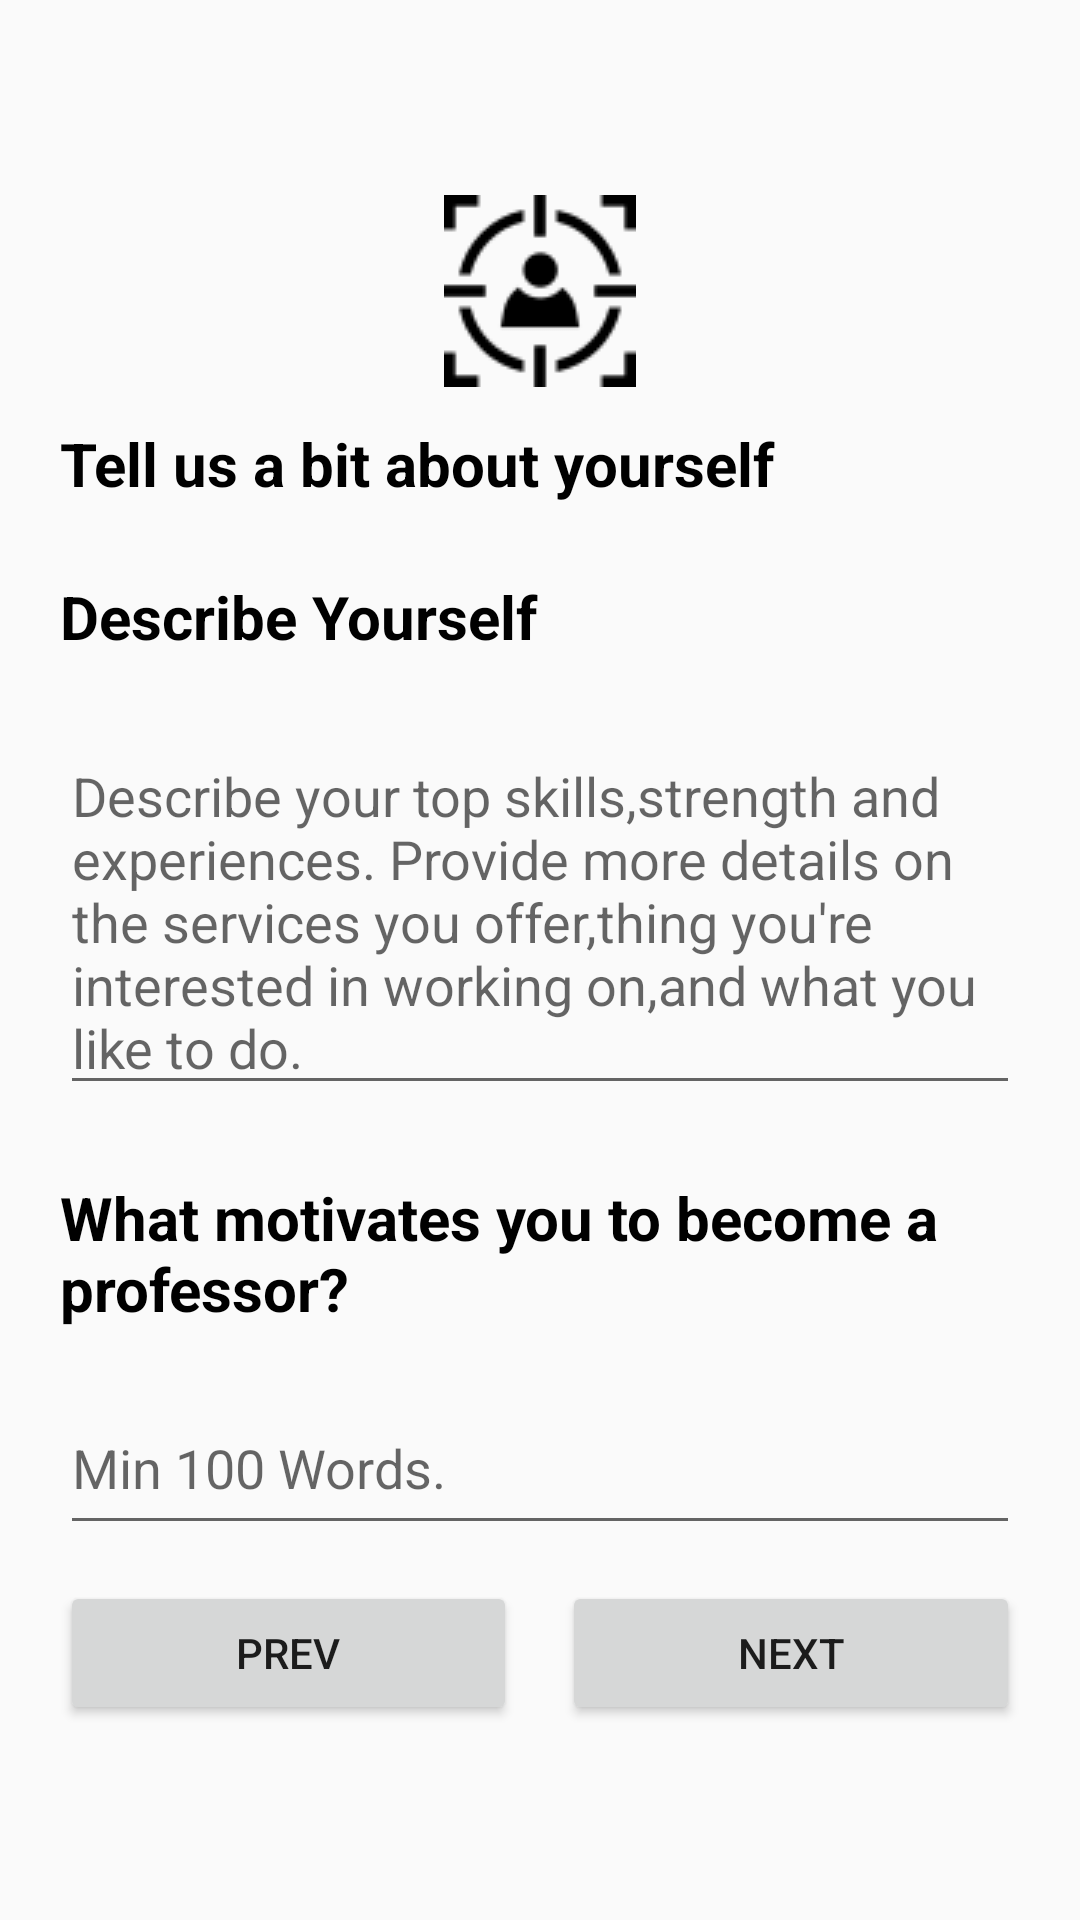

Locate icon controls on the screen. Image size 1080px x 1920px, boxes as (x1=x1, y1=y1, x2=x2, y2=y2).
identity: (x1=444, y1=195, x2=636, y2=387)
